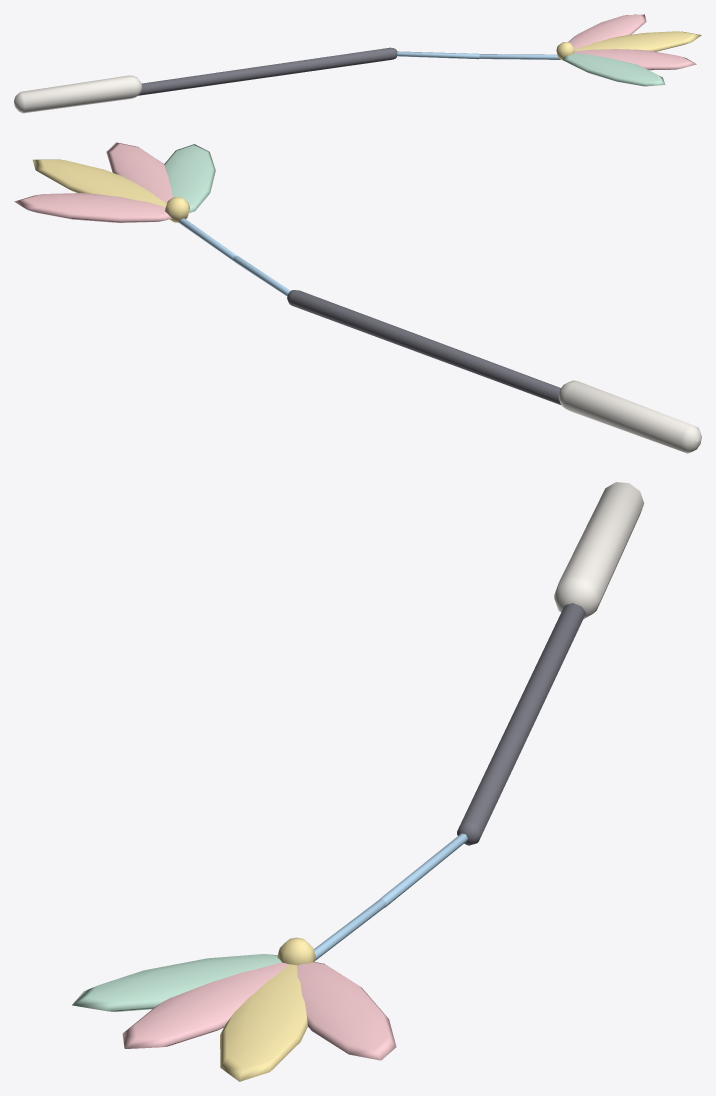
File: wand-0.glb
The picture shows the model from 3 angles, top to bottom: view 1: azimuth 30°, elevation 25°; view 2: azimuth 150°, elevation 25°; view 3: azimuth 270°, elevation 25°; orthographic projection. The views are drawn at different scales.
Parts seen in each view (by area): view 1: feather-wand; view 2: feather-wand; view 3: feather-wand.
Boxes of the visible parts, box(x1,y1,x2,y2) form: feather-wand: box(14, 14, 701, 113); feather-wand: box(14, 142, 701, 453); feather-wand: box(72, 482, 644, 1081).
Bounding box in the file's own units: 0.6311 × 0.0215 × 0.2648.
